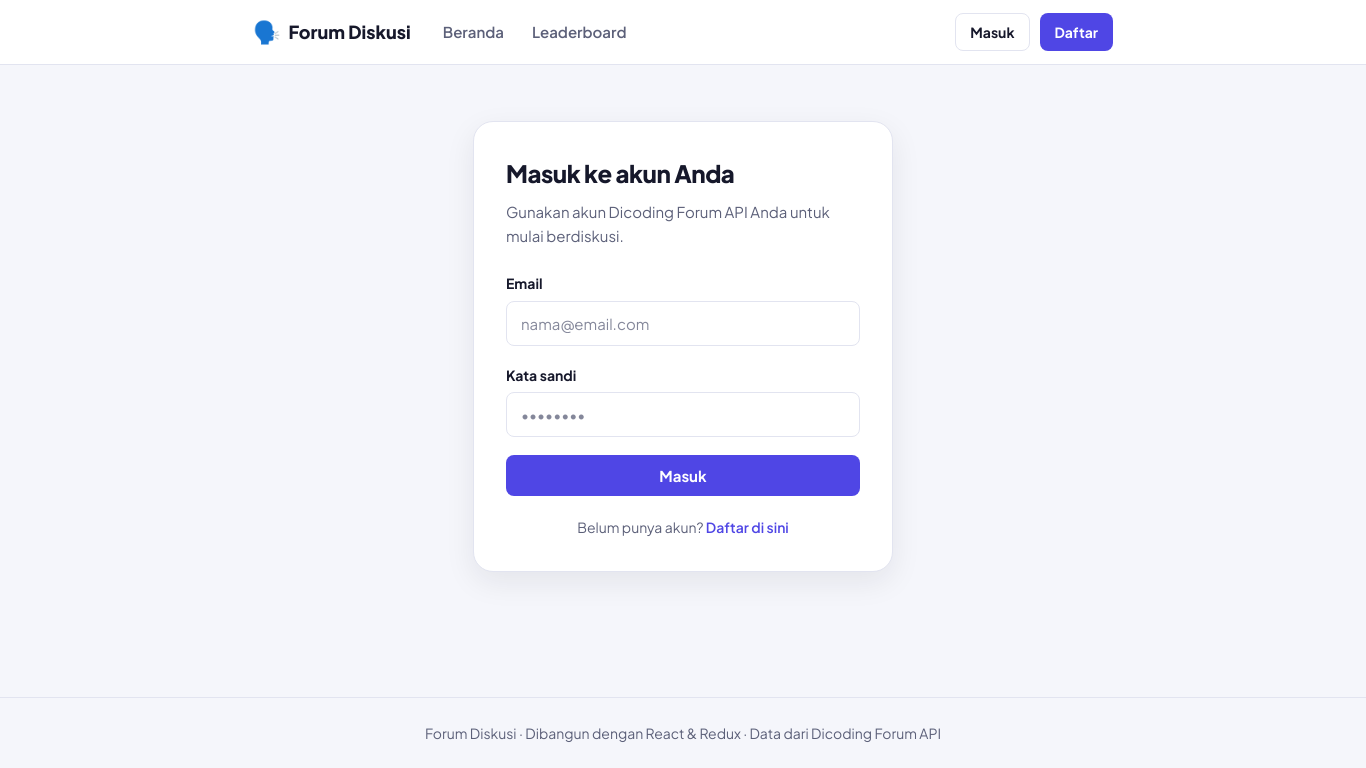
Test: Alur Login › harus menampilkan pesan galat ketika form dikirim dalam keadaan kosong
Click the submit button at (683, 476), box [506,455,860,496]
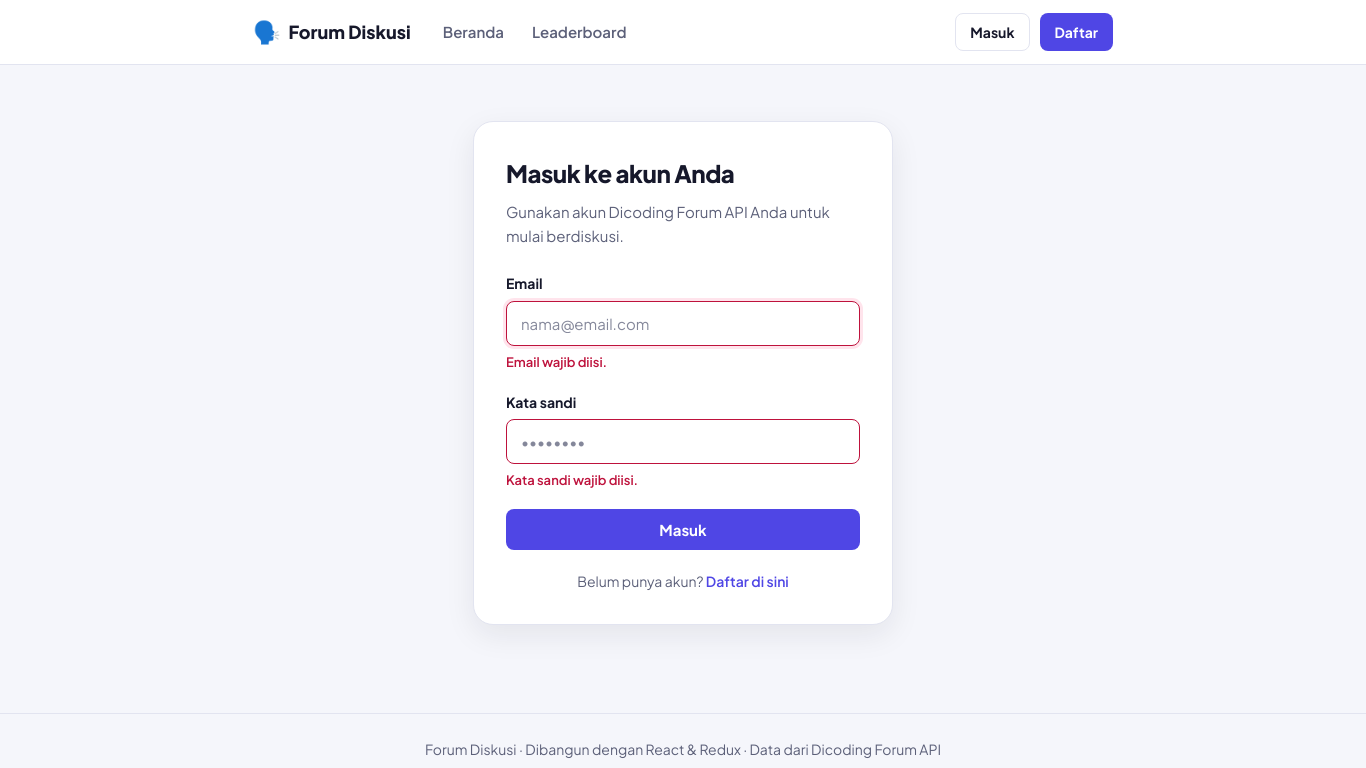
Now the text "Email wajib diisi." is shown, box [506,354,607,370]
Now the text "Kata sandi wajib diisi." is shown, box [506,472,638,488]
